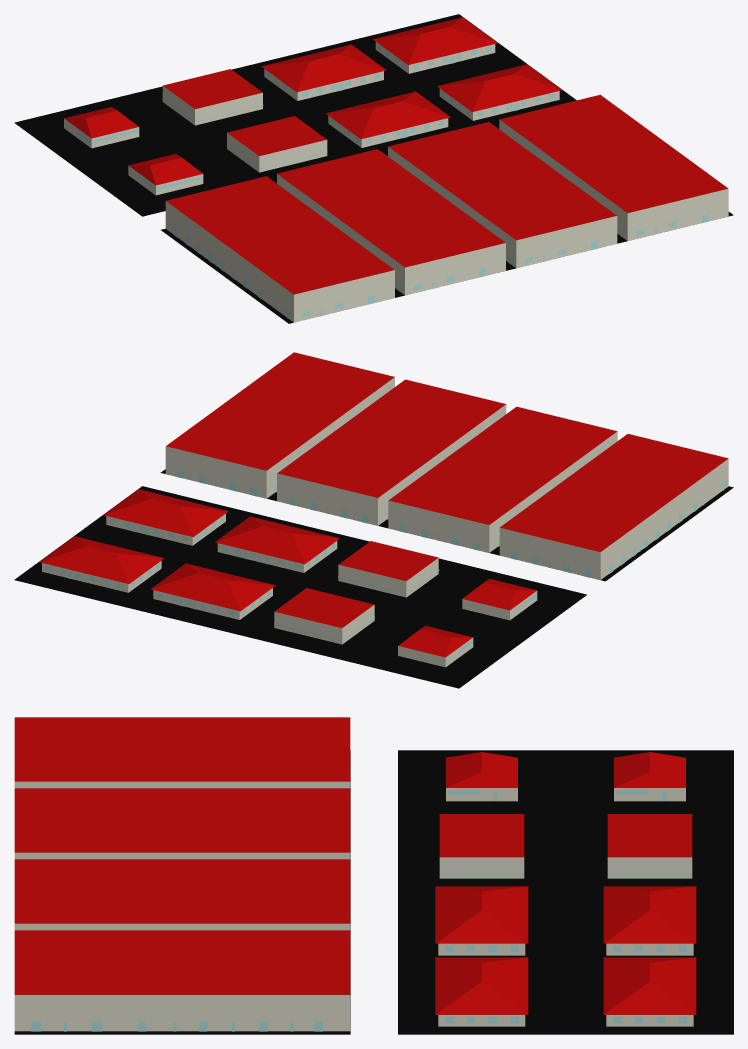
3 views of the same model, one above another, from view 1: azimuth 30°, elevation 25°; view 2: azimuth 150°, elevation 25°; view 3: azimuth 270°, elevation 25° (orthographic). The views are drawn at different scales.
Visible parts, largest first — view 1: Roofs, Walls, Ground, Windows; view 2: Roofs, Ground, Walls, Windows; view 3: Roofs, Ground, Walls, Windows.
Part boxes in pixels (x1,y1,x2,y2): Roofs: (64,17,727,294); Walls: (64,42,728,322); Ground: (14,14,733,323); Windows: (78,44,708,318); Roofs: (39,352,728,657); Ground: (14,469,733,688); Walls: (42,377,728,667); Windows: (46,469,727,651); Roofs: (14,717,696,1014); Ground: (14,750,733,1034); Walls: (14,781,693,1031); Windows: (31,790,691,1031).
Size of the model in its own units: 142 by 8.53 by 153.
